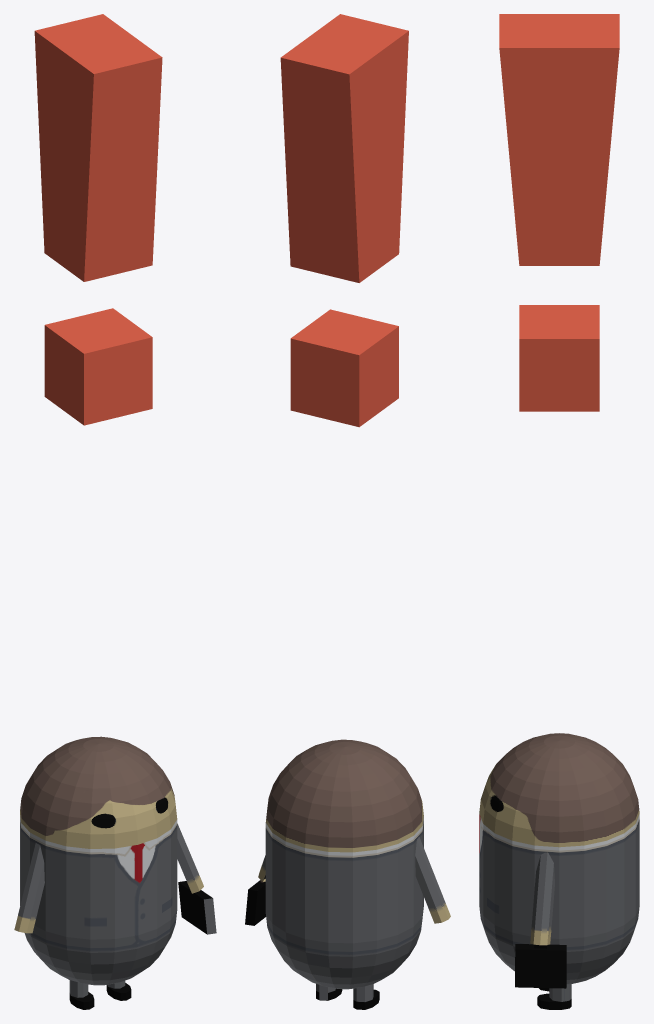
The model's file is personnage_S.glb.
3 views of the same model, side by side, from view 1: azimuth 30°, elevation 25°; view 2: azimuth 150°, elevation 25°; view 3: azimuth 270°, elevation 25° (orthographic).
Parts seen in each view (by area): view 1: Cube, Sphère; view 2: Cube, Sphère; view 3: Sphère, Cube.
Part boxes in pixels (x1,y1,x2,y2): Cube: (34,14,162,425); Sphère: (14,736,216,1009); Cube: (280,14,408,427); Sphère: (245,739,450,1009); Sphère: (479,733,639,1009); Cube: (499,14,619,411).
Bounding box in the file's own units: 1.39 × 6.64 × 1.
2 materials, 2 textured.
